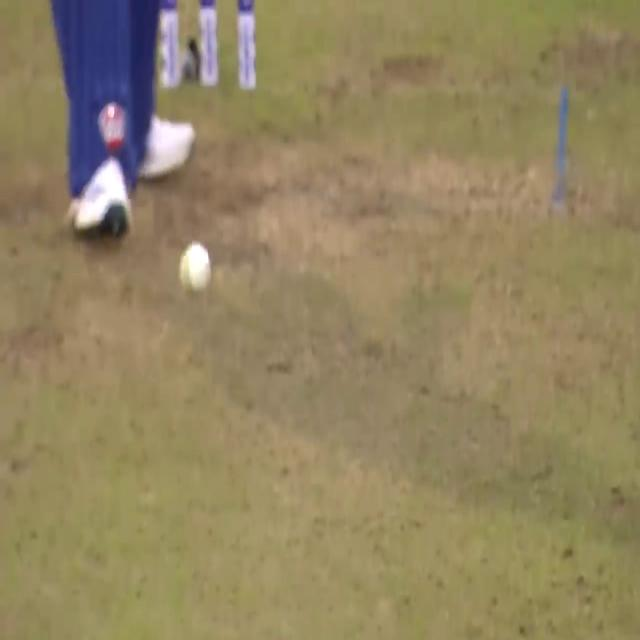ball: (180, 244, 212, 300)
